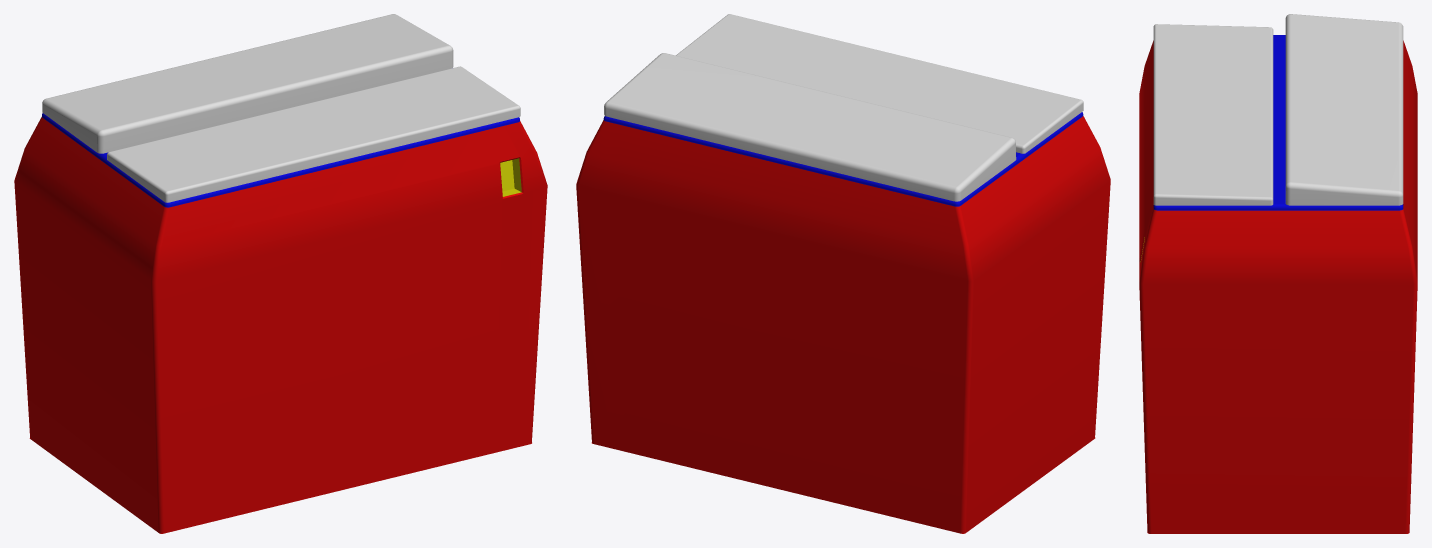
The model's file is chiller.fbx.
The picture shows the model from 3 angles, left to right: view 1: azimuth 30°, elevation 25°; view 2: azimuth 150°, elevation 25°; view 3: azimuth 270°, elevation 25°; orthographic projection.
Parts seen in each view (by area): view 1: chillerbody, chillerdoor2_high, chillderdoor1_high; view 2: chillerbody, chillerdoor2_high, chillderdoor1_high; view 3: chillerbody, chillerdoor2_high, chillderdoor1_high.
Part boxes in pixels (x1,y1,x2,y2): chillerbody: (14, 113, 547, 533); chillerdoor2_high: (42, 14, 453, 153); chillderdoor1_high: (107, 66, 520, 202); chillerbody: (576, 112, 1110, 533); chillerdoor2_high: (604, 53, 1016, 201); chillderdoor1_high: (676, 14, 1083, 153); chillerbody: (1139, 35, 1417, 533); chillerdoor2_high: (1285, 14, 1403, 205); chillderdoor1_high: (1153, 24, 1273, 205).
Bounding box in the file's own units: 135 × 113 × 82.87.
